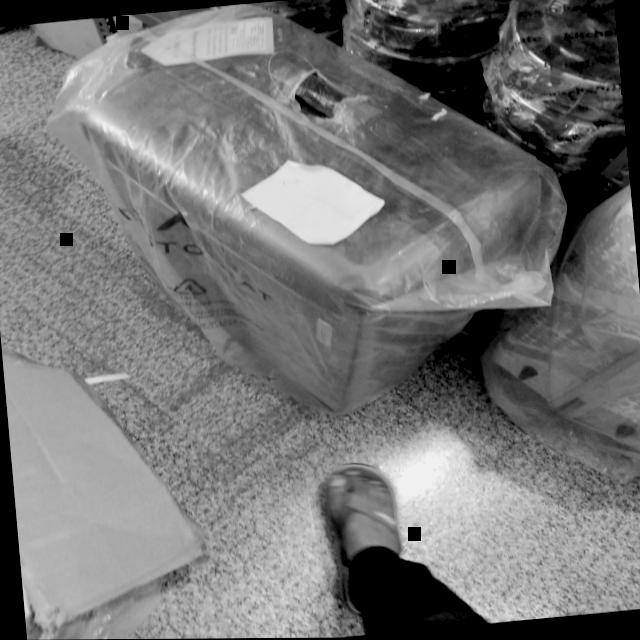luggage: (72, 0, 578, 439)
